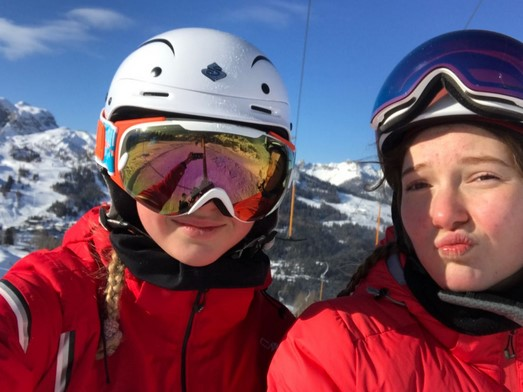face_no_mask: (391, 105, 523, 293)
